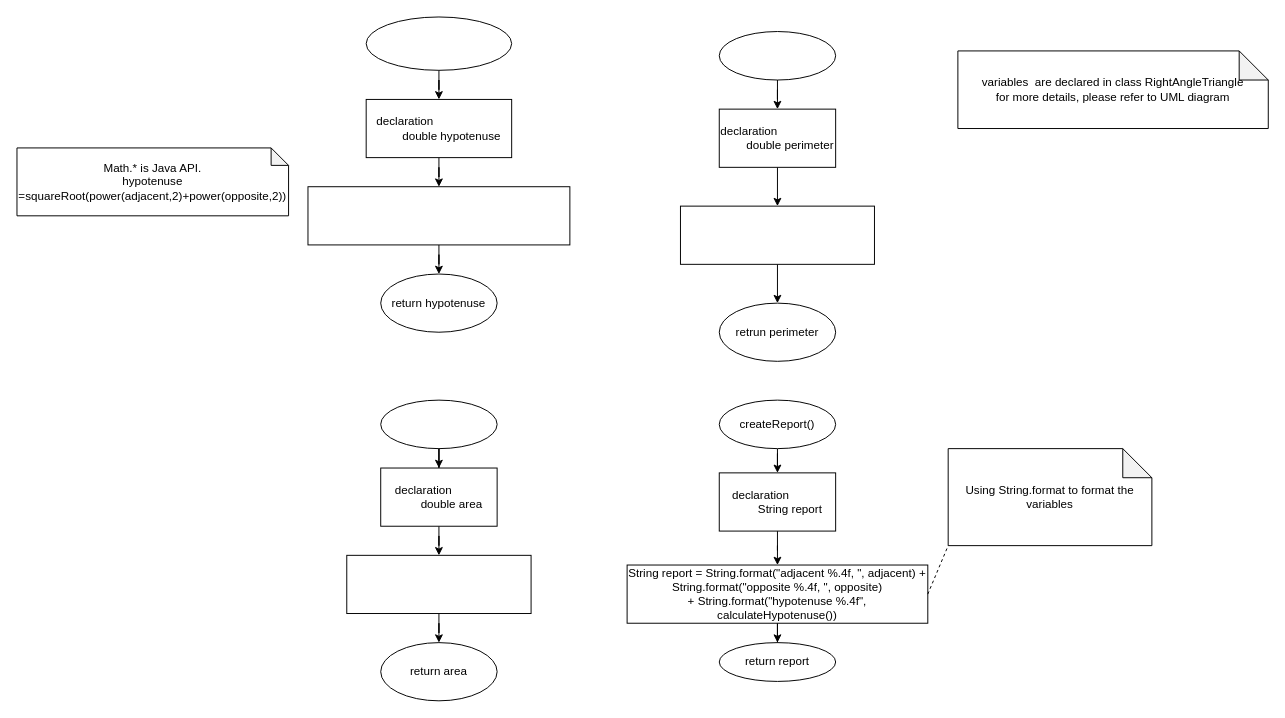
The diagram is 1285 pixels wide and 718 high, and some of its shapes have lost their labels. Each missing label, with the box of its shape:
area = 0.5 * adjacent * opposite: (346, 554, 531, 614)
calculateArea(): (380, 399, 497, 449)
calculateHypotenuse(): (365, 16, 512, 70)
calculatePerimeter(): (718, 31, 836, 80)
hypotenuse = Math.sqrt((Math.pow(adjacent, 2) + Math.pow(opposite, 2))): (307, 186, 570, 245)
perimeter = adjacent + opposite + calculateHypotenuse(): (679, 205, 874, 264)
